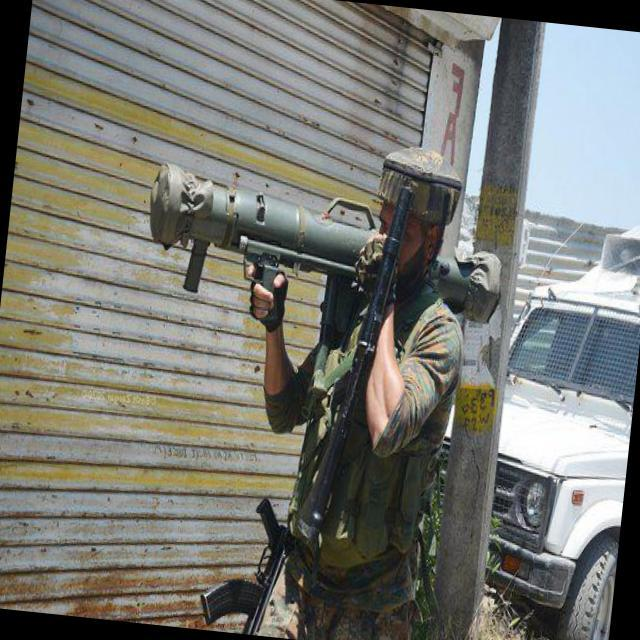rocket: (140, 162, 512, 328)
